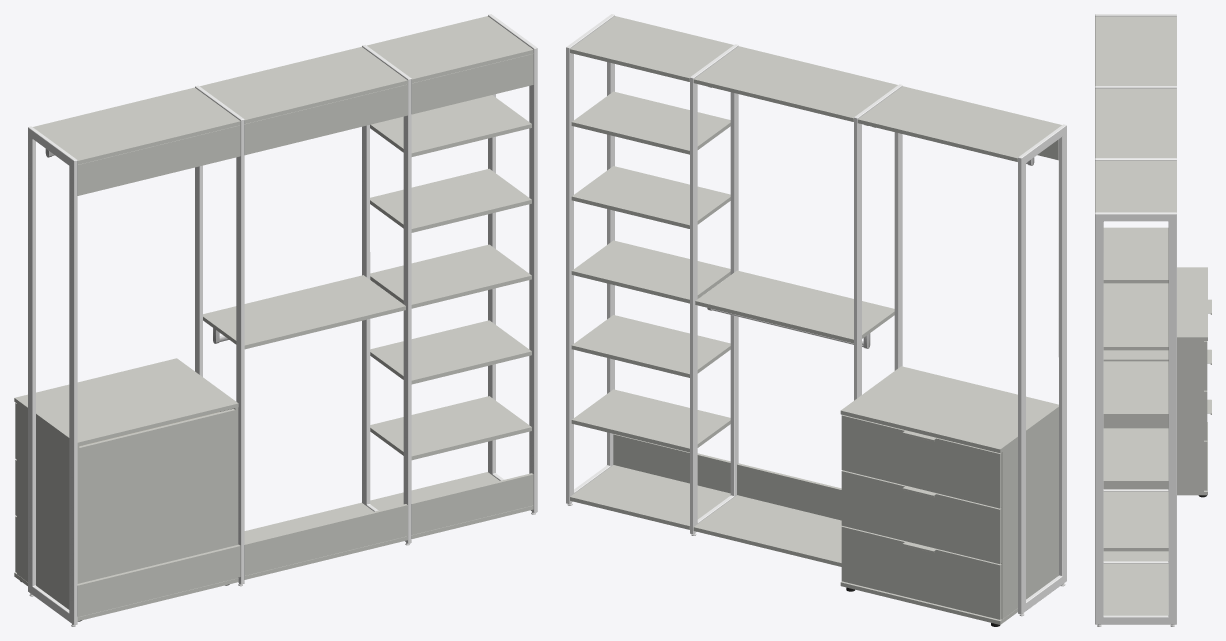
Rendered from THST00316.glb.
The picture shows the model from 3 angles, left to right: view 1: azimuth 30°, elevation 25°; view 2: azimuth 150°, elevation 25°; view 3: azimuth 270°, elevation 25°; orthographic projection. The views are drawn at different scales.
Parts seen in each view (by area): view 1: node_372_StaticMeshComponent0, node_369_2_StaticMeshComponent0, node_1300_StaticMeshComponent0, node_363_StaticMeshComponent0, node_527_StaticMeshComponent0, node_371_StaticMeshComponent0, node_529_StaticMeshComponent0, node_629_StaticMeshComponent0, node_1268_StaticMeshComponent0, node_1016_StaticMeshComponent0, node_1271_StaticMeshComponent0, node_1272_StaticMeshComponent0 (+13 smaller); view 2: node_369_2_StaticMeshComponent0, node_381_2_StaticMeshComponent0, node_388_2_StaticMeshComponent0, node_374_StaticMeshComponent0, node_1300_StaticMeshComponent0, node_371_StaticMeshComponent0, node_363_StaticMeshComponent0, node_527_StaticMeshComponent0, node_629_StaticMeshComponent0, node_529_StaticMeshComponent0, node_531_StaticMeshComponent0, node_1268_StaticMeshComponent0 (+11 smaller); view 3: node_1039_StaticMeshComponent0, node_363_StaticMeshComponent0, node_527_StaticMeshComponent0, node_370_StaticMeshComponent0, node_1268_StaticMeshComponent0, node_1272_StaticMeshComponent0, node_1273_StaticMeshComponent0, node_1274_StaticMeshComponent0, node_1270_StaticMeshComponent0, node_1271_StaticMeshComponent0, node_1276_StaticMeshComponent0, node_369_2_StaticMeshComponent0 (+9 smaller).
Part boxes in pixels (x1,y1,x2,y2): node_372_StaticMeshComponent0: (79,409,235,616); node_369_2_StaticMeshComponent0: (14,358,238,446); node_1300_StaticMeshComponent0: (28,126,77,625); node_363_StaticMeshComponent0: (33,87,240,164); node_527_StaticMeshComponent0: (200,46,407,123); node_371_StaticMeshComponent0: (17,404,79,617); node_529_StaticMeshComponent0: (203,275,405,349); node_629_StaticMeshComponent0: (362,44,411,543); node_1268_StaticMeshComponent0: (367,16,533,83); node_1016_StaticMeshComponent0: (195,85,244,584); node_1271_StaticMeshComponent0: (370,168,531,232); node_1272_StaticMeshComponent0: (370,244,531,308); node_369_2_StaticMeshComponent0: (840,366,1058,453); node_381_2_StaticMeshComponent0: (841,470,1001,563); node_388_2_StaticMeshComponent0: (841,526,1001,619); node_374_StaticMeshComponent0: (841,415,1001,508); node_1300_StaticMeshComponent0: (1018,124,1066,614); node_371_StaticMeshComponent0: (1001,410,1058,619); node_363_StaticMeshComponent0: (857,86,1061,161); node_527_StaticMeshComponent0: (693,46,897,121); node_629_StaticMeshComponent0: (690,44,738,534); node_529_StaticMeshComponent0: (695,270,894,343); node_531_StaticMeshComponent0: (693,495,841,566); node_1268_StaticMeshComponent0: (570,16,733,81); node_1039_StaticMeshComponent0: (1095,212,1176,624); node_363_StaticMeshComponent0: (1095,16,1176,85); node_527_StaticMeshComponent0: (1095,88,1176,157); node_370_StaticMeshComponent0: (1103,341,1203,491); node_1268_StaticMeshComponent0: (1095,160,1176,212); node_1272_StaticMeshComponent0: (1103,361,1168,417); node_1273_StaticMeshComponent0: (1103,428,1168,484); node_1274_StaticMeshComponent0: (1103,495,1168,551); node_1270_StaticMeshComponent0: (1103,227,1168,283); node_1271_StaticMeshComponent0: (1103,294,1168,350); node_1276_StaticMeshComponent0: (1103,563,1168,615); node_369_2_StaticMeshComponent0: (1103,267,1207,340).
Size of the model in its own units: 2.26 by 2.17 by 0.5557.
Materials: 5 (2 with a texture image).
